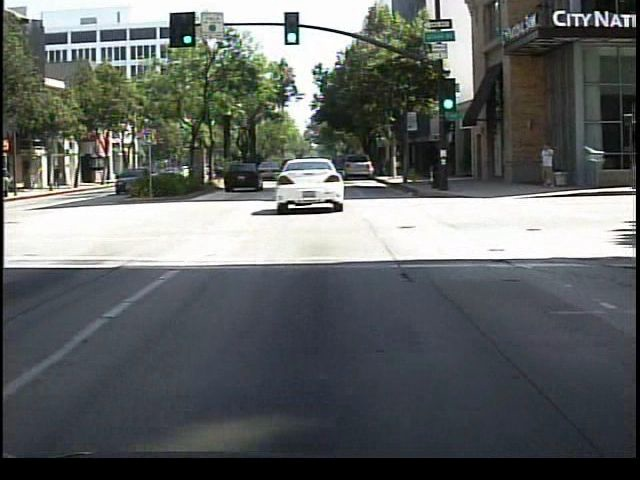person: (536, 140, 560, 194), (51, 161, 66, 196)
